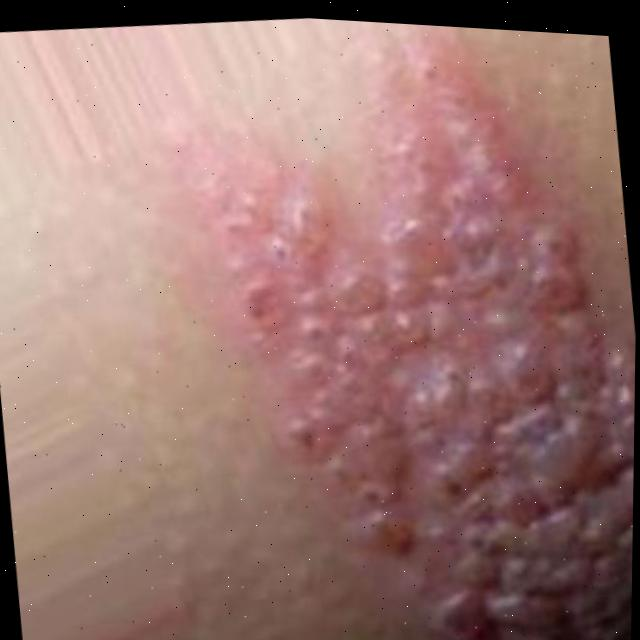Shingles: (158, 26, 640, 640)
